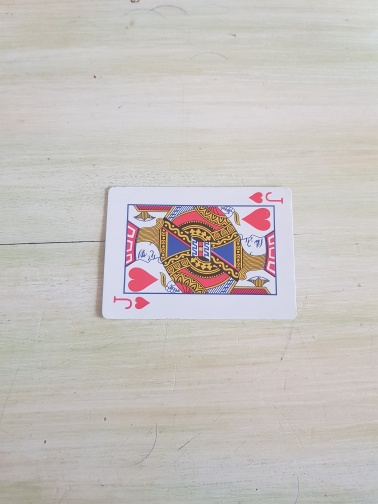jack: (100, 185, 298, 321)
